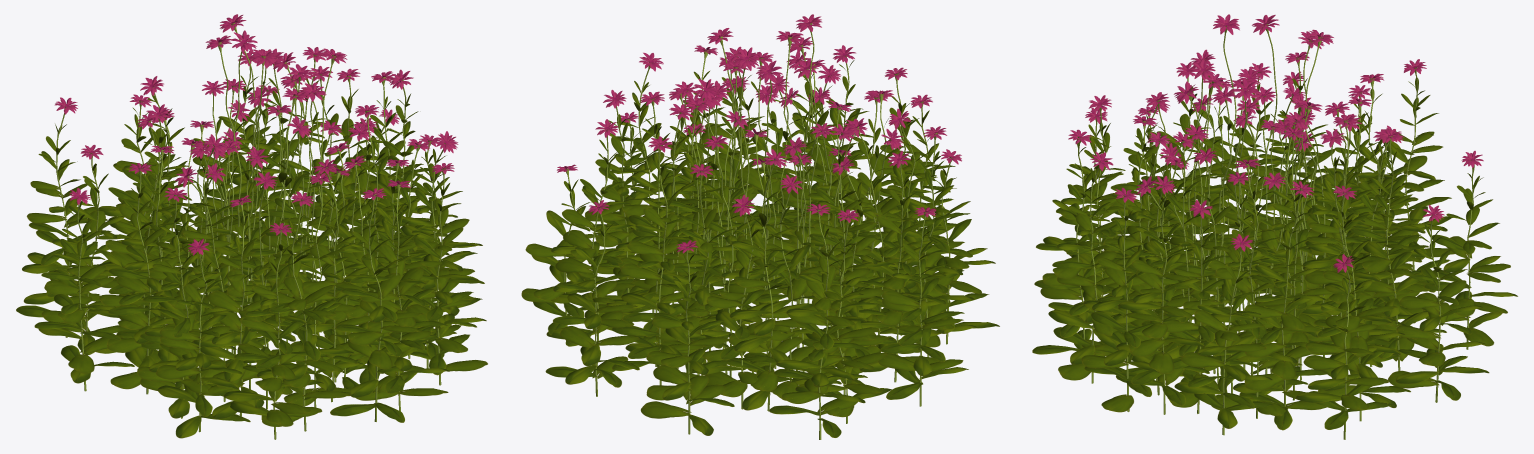
File: garden_flower_-_vegetation.glb
The picture shows the model from 3 angles, left to right: view 1: azimuth 30°, elevation 25°; view 2: azimuth 150°, elevation 25°; view 3: azimuth 270°, elevation 25°; orthographic projection.
Visible parts, largest first — view 1: flower; view 2: flower; view 3: flower.
Boxes of the visible parts, box(x1,y1,x2,y2) form: flower: box(16, 14, 487, 439); flower: box(521, 14, 999, 439); flower: box(1032, 14, 1517, 439).
Bounding box in the file's own units: 5.58 × 4.32 × 5.76.
3 materials, 3 textured.
